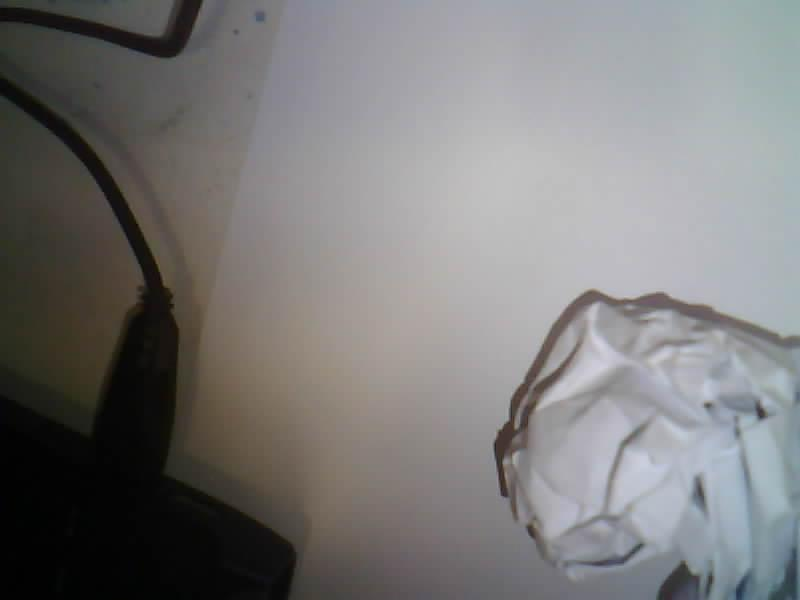biodegradable: (501, 298, 799, 599)
